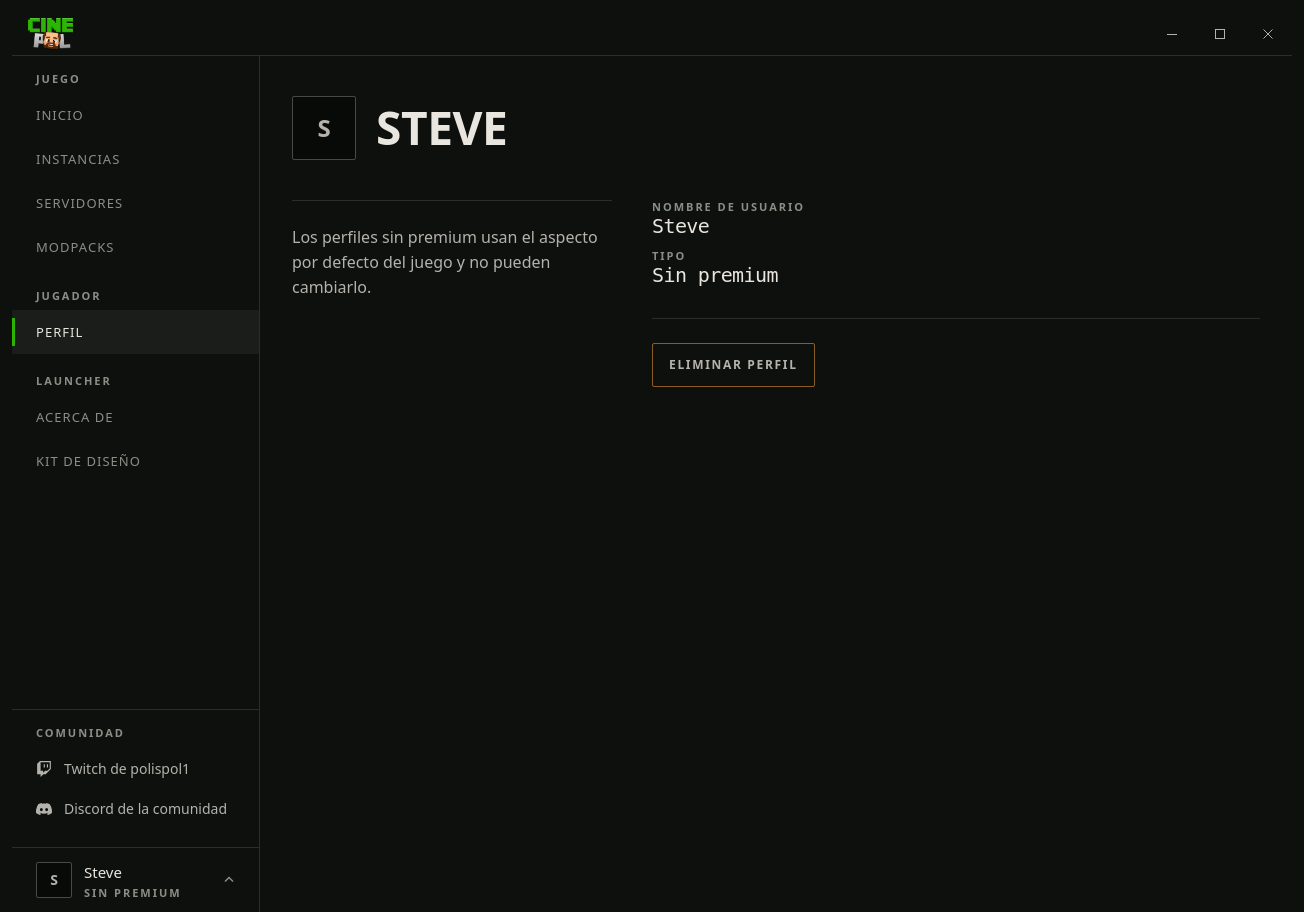
Test: profile switcher › opens the page to add a profile
Click the button with aria-label "Cambiar de perfil": click(136, 880) [12,848,259,911]
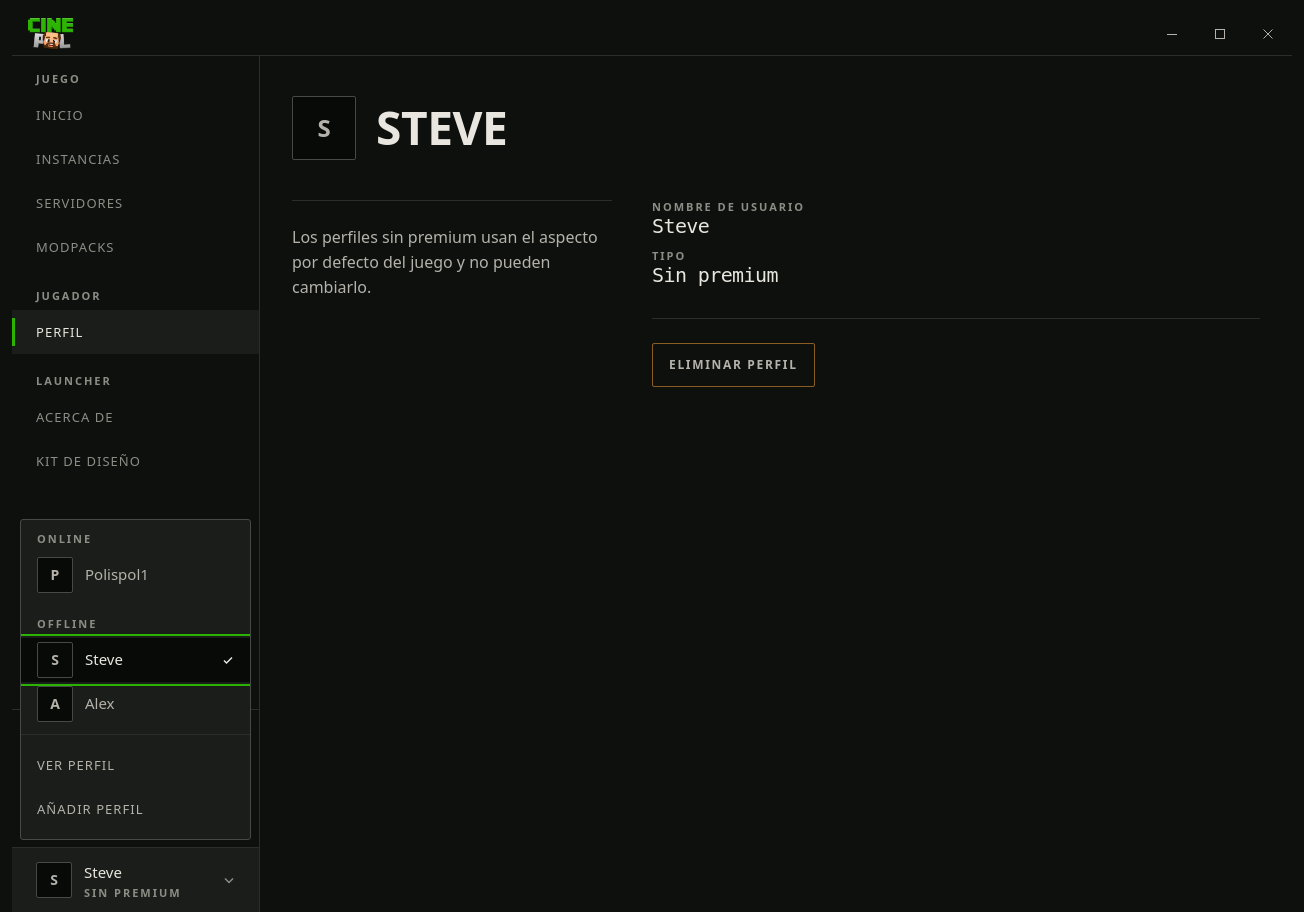
Click the menu item "Añadir perfil": click(136, 809) [21,787,250,831]
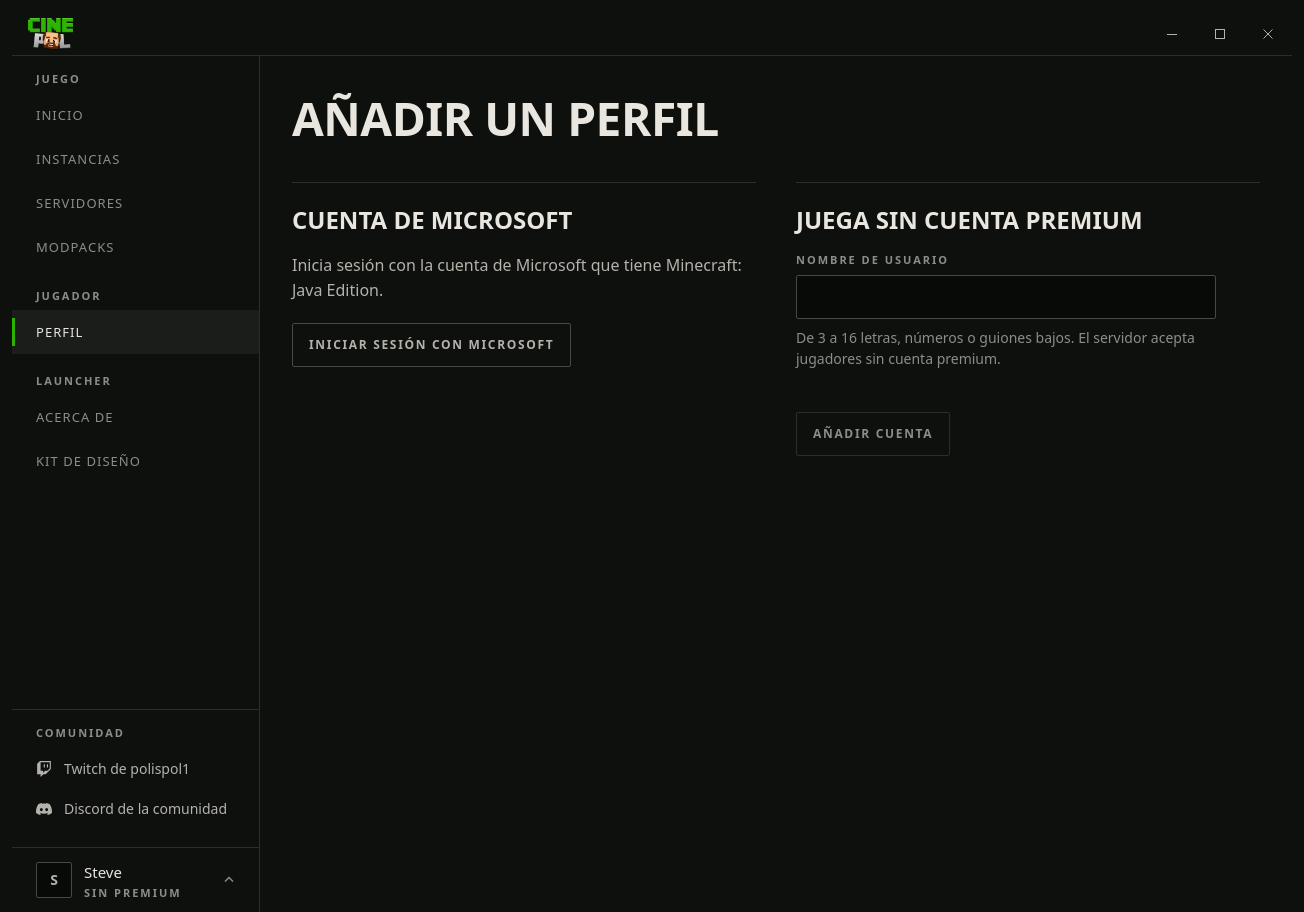
Expected: the heading "Añadir un perfil" is shown, [292,87,719,150]
